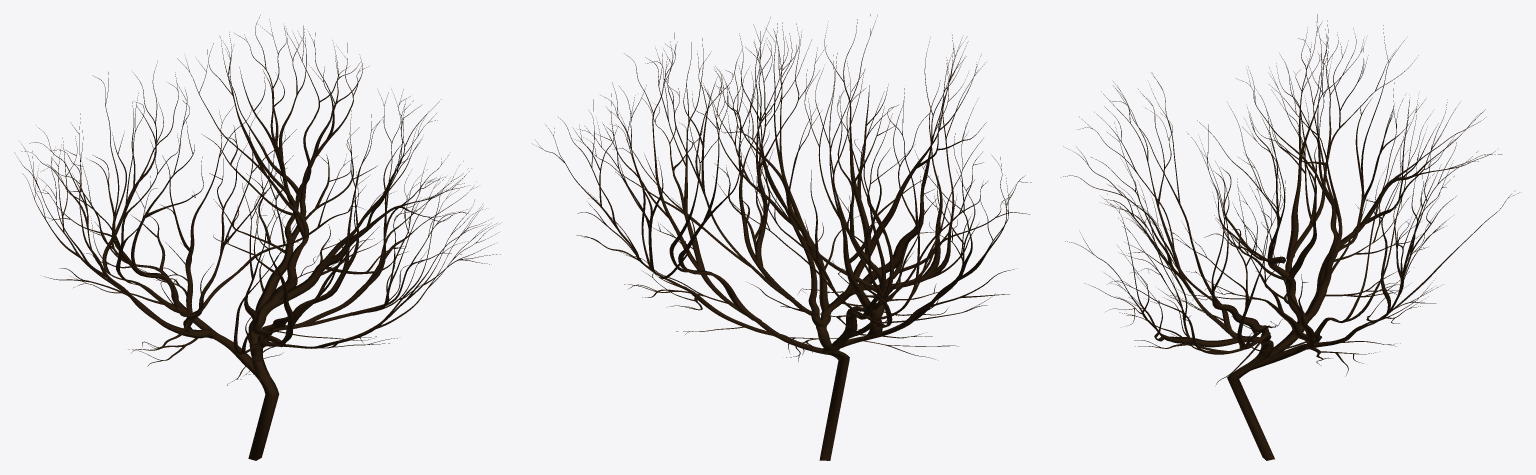
3 renders of one model, left to right at view 1: azimuth 30°, elevation 25°; view 2: azimuth 150°, elevation 25°; view 3: azimuth 270°, elevation 25°, orthographic. The views are drawn at different scales.
Visible parts, largest first — view 1: tree; view 2: tree; view 3: tree.
Boxes of the visible parts, box(x1,y1,x2,y2) form: tree: box(14, 15, 500, 460); tree: box(536, 14, 1031, 460); tree: box(1061, 14, 1519, 460).
Size of the model in its own units: 1081 by 924 by 992.
